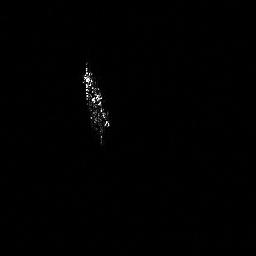ship: (80, 60, 112, 149)
